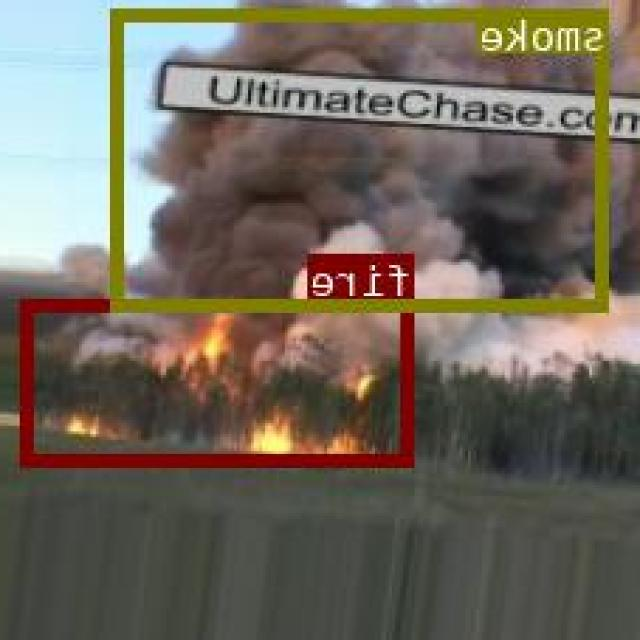fire: (24, 297, 417, 465)
smoke: (114, 6, 609, 307)
